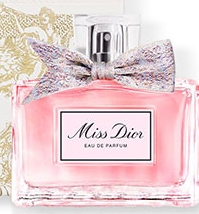dior_miss_dior: (12, 8, 198, 207)
